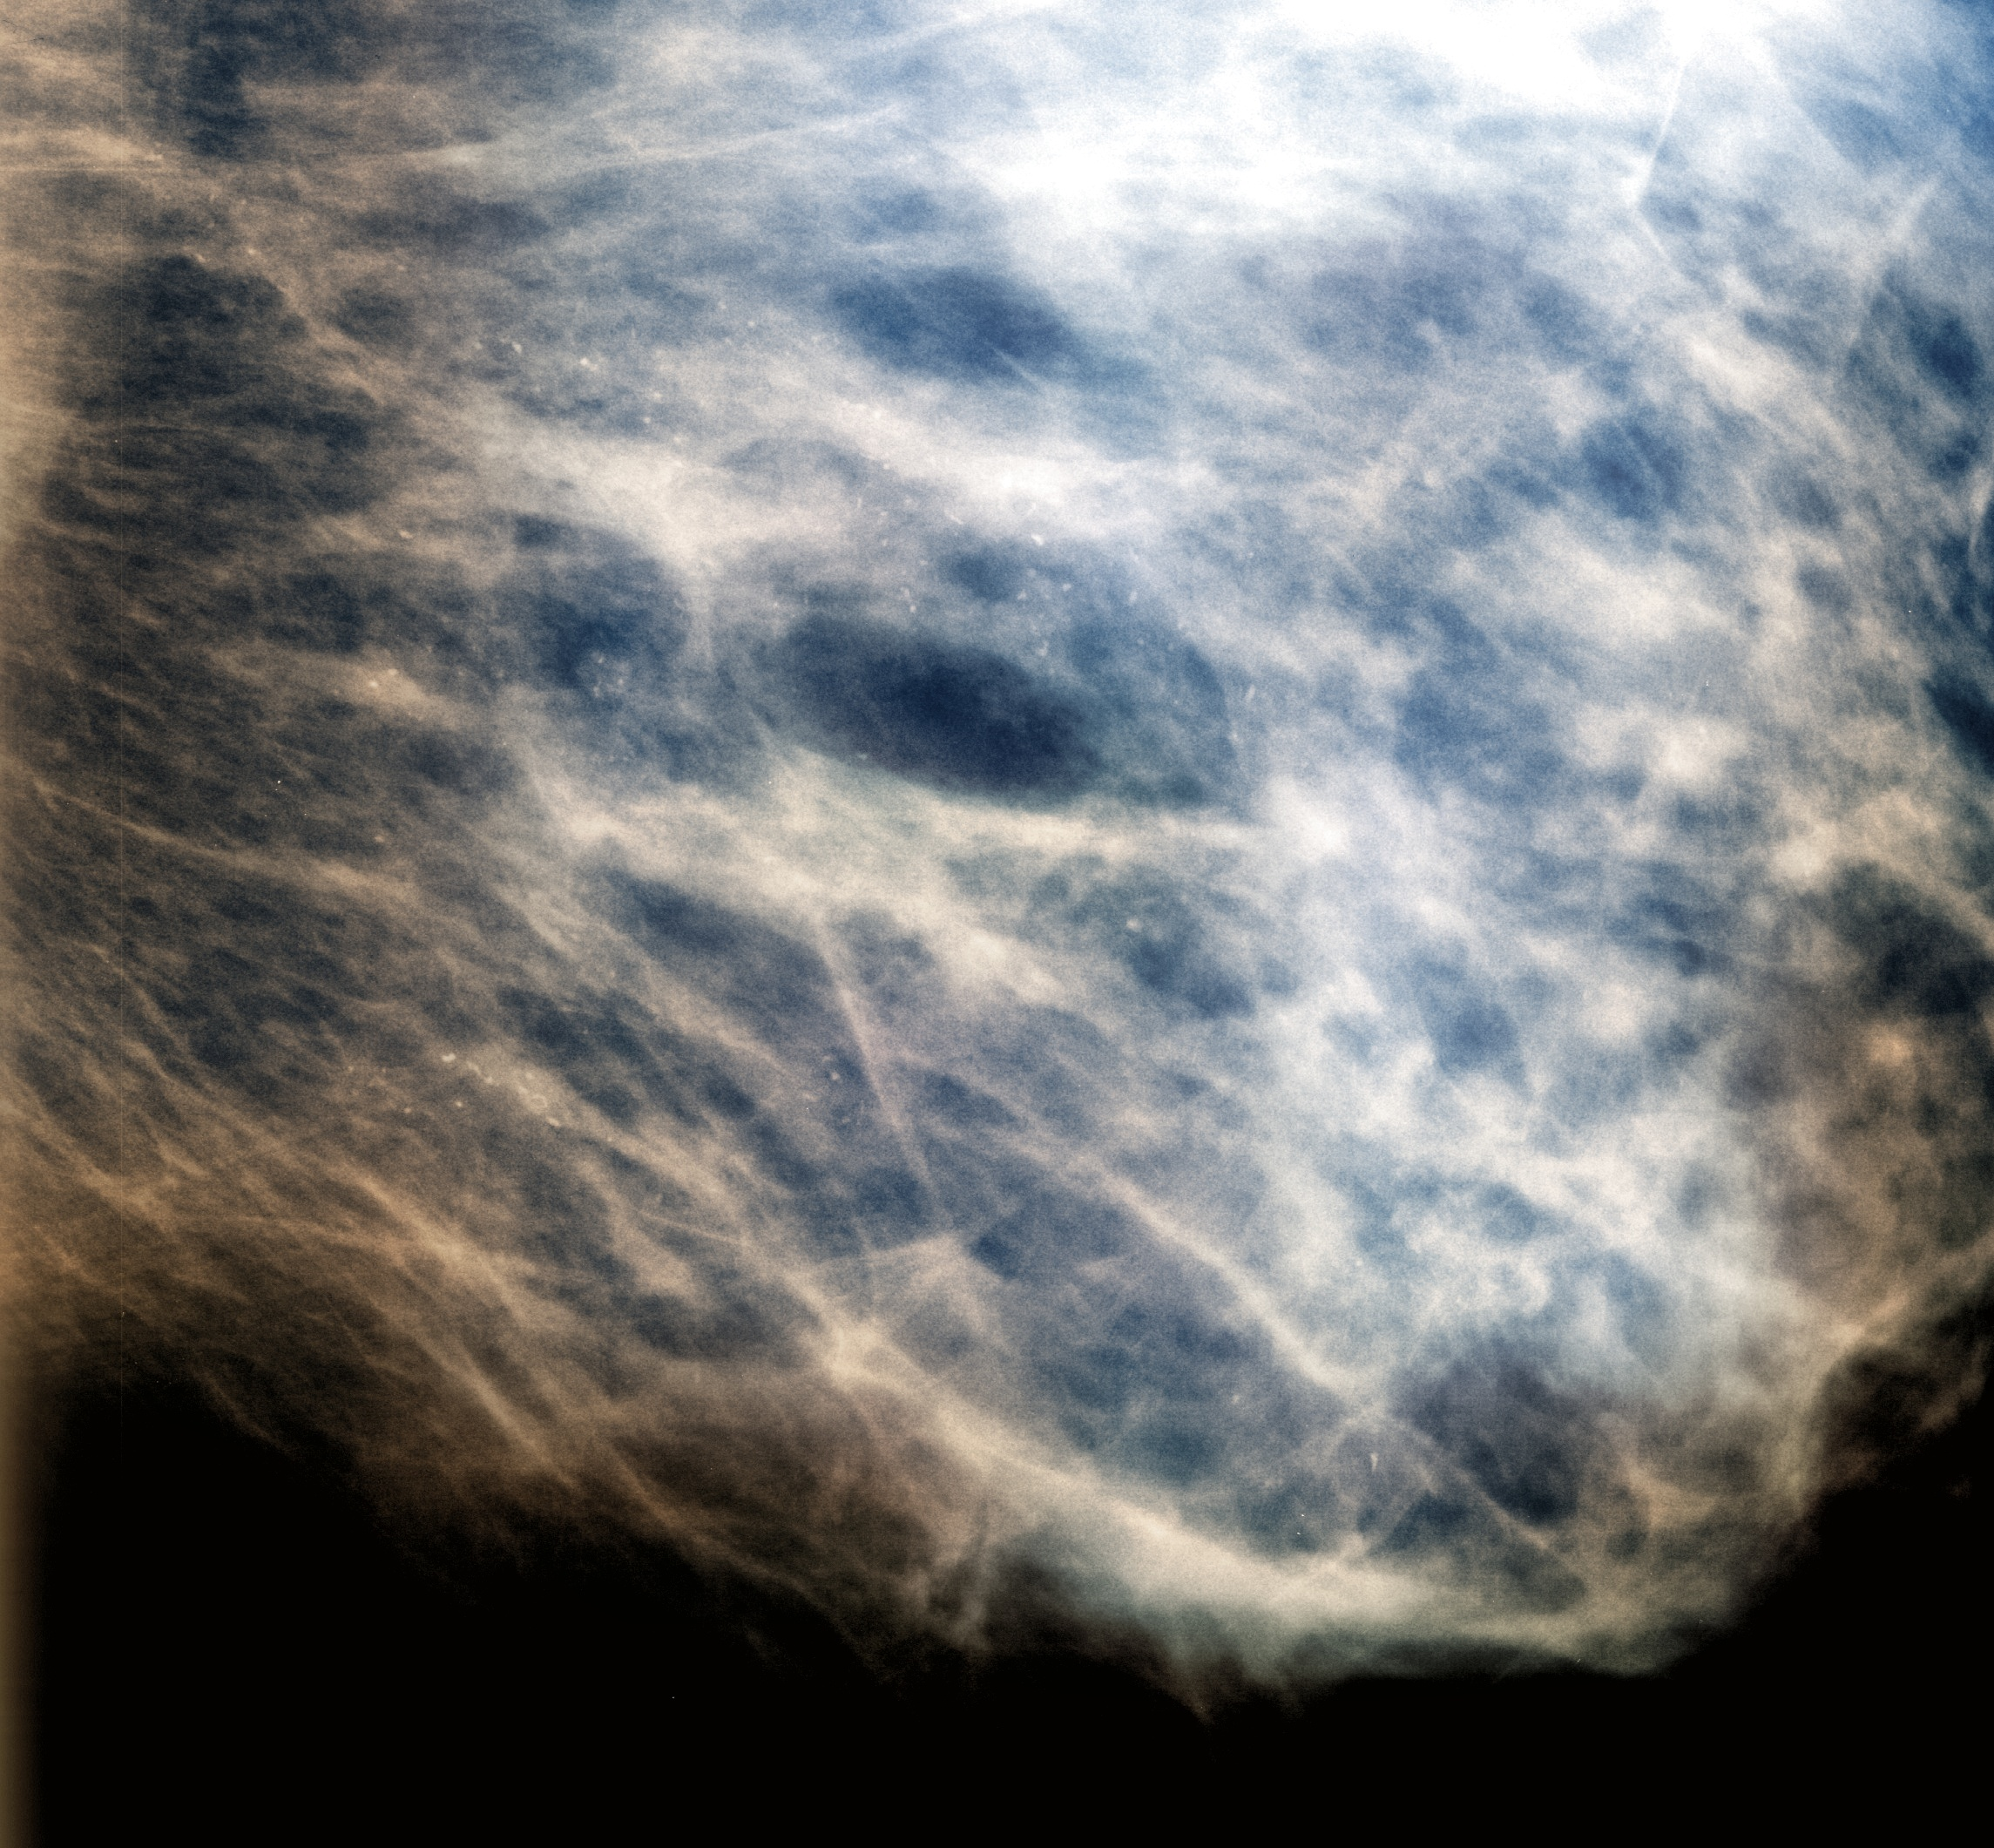tumor: (0, 0, 1994, 1848)
